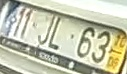1: (11, 7, 26, 38), (19, 9, 32, 39)
3: (90, 31, 111, 64)
6: (75, 26, 95, 59)
J: (36, 14, 56, 45)
L: (46, 16, 61, 51)
